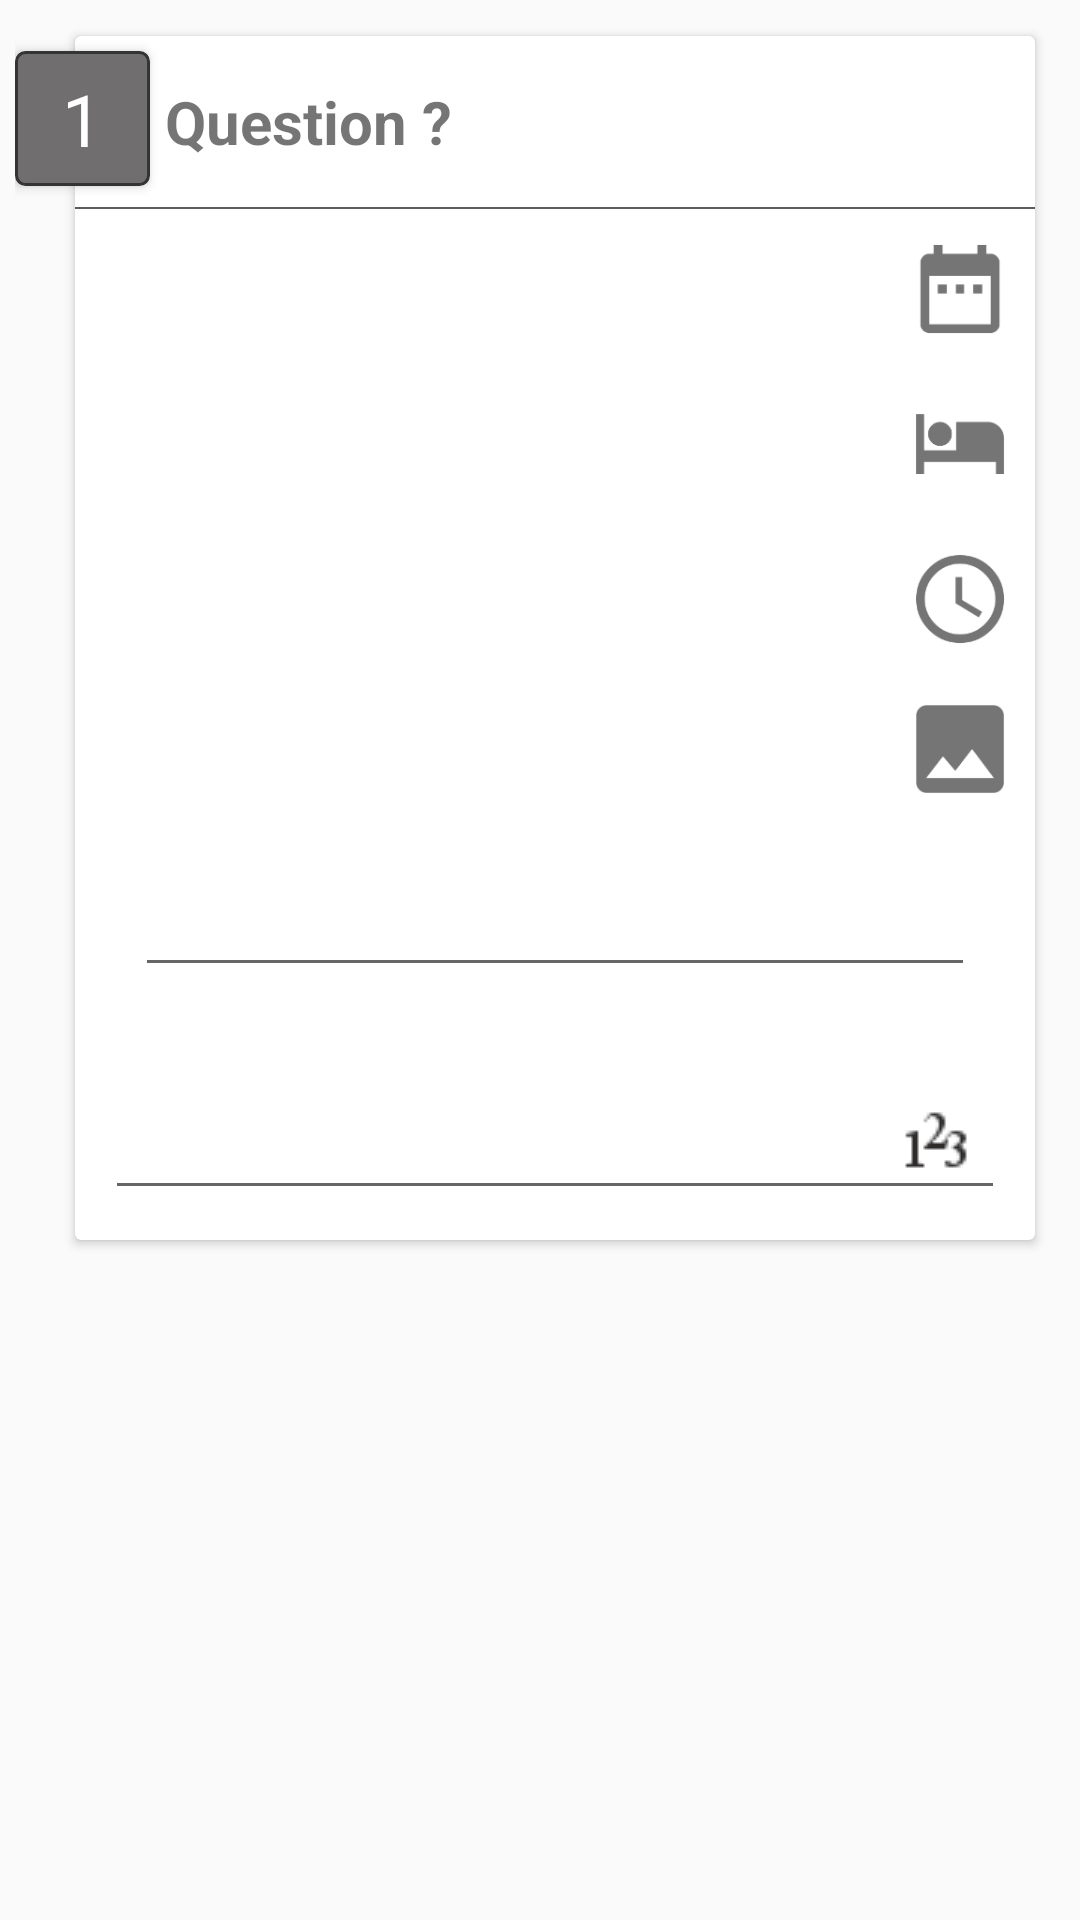

Locate icon controls on the screen. Image size 1080*1920, boxes as bbox=[x1, y1, x2, y2].
access time: bbox=[916, 555, 1004, 643]
date range: bbox=[920, 245, 1000, 333]
local hotel: bbox=[916, 414, 1004, 474]
